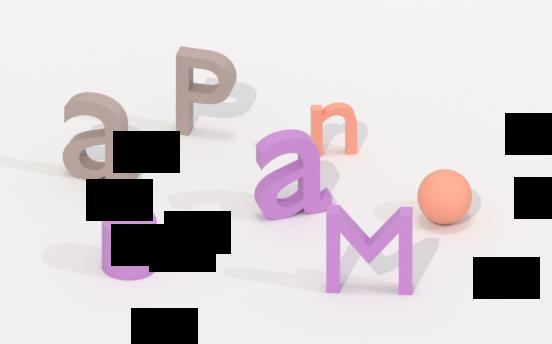M-hoa: (323, 199, 418, 299)
a: (61, 89, 143, 190), (253, 129, 335, 222)
cau: (416, 167, 474, 228)
n: (307, 100, 361, 161)
p: (171, 41, 239, 139)
tru: (98, 203, 160, 283)
